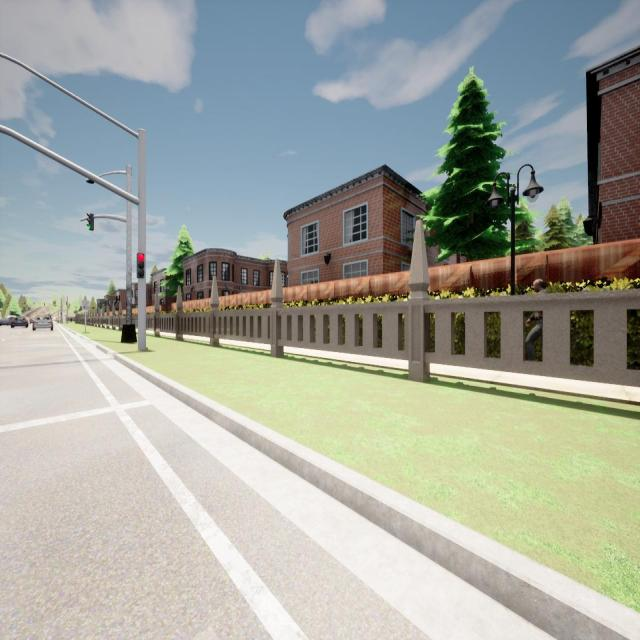Traffic_Signs: (82, 301, 89, 310)
Vehicle: (33, 316, 53, 330), (10, 316, 28, 328), (0, 318, 10, 326), (8, 315, 16, 320), (29, 318, 33, 324)
traffic_light: (136, 253, 145, 278), (86, 213, 94, 231), (44, 302, 45, 306), (60, 312, 61, 315), (34, 302, 34, 304)
